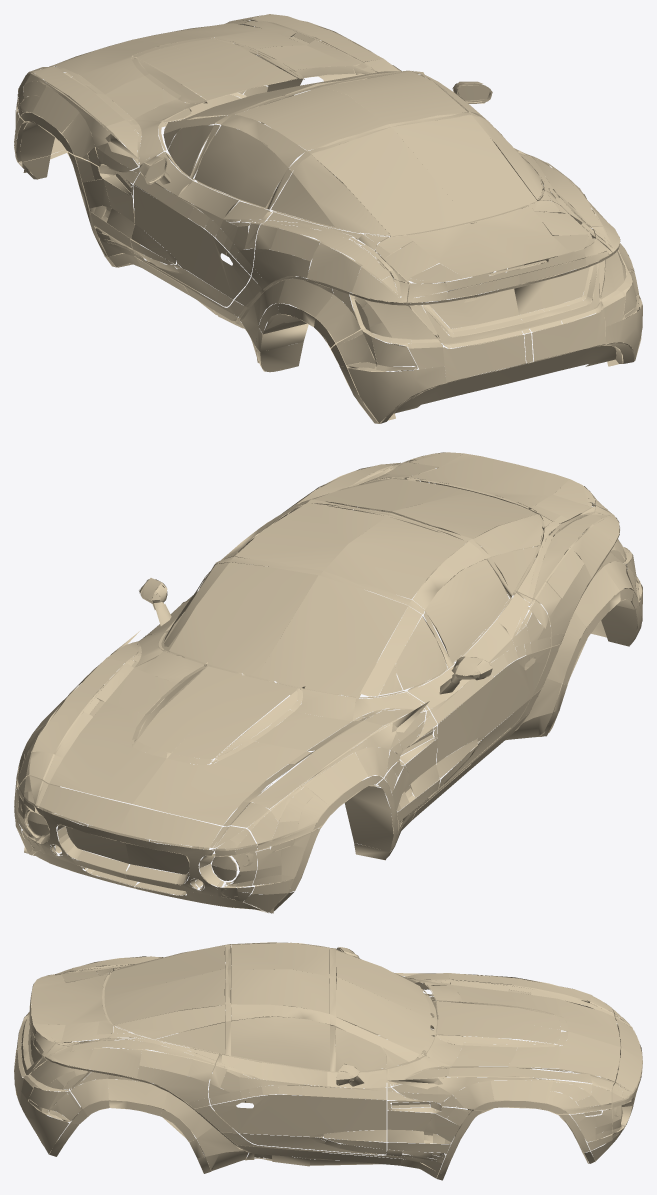
The model's file is car.dae.
3 views of the same model, one above another, from view 1: azimuth 30°, elevation 25°; view 2: azimuth 150°, elevation 25°; view 3: azimuth 270°, elevation 25° (orthographic). The views are drawn at different scales.
Visible parts, largest first — view 1: car; view 2: car; view 3: car.
Part boxes in pixels (x1,y1,x2,y2): car: (14, 14, 642, 423); car: (14, 452, 642, 913); car: (14, 942, 642, 1180).
Bounding box in the file's own units: 2.28 × 4.68 × 1.33.
